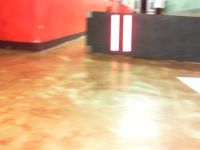switch: (110, 15, 120, 51), (122, 15, 132, 51)
